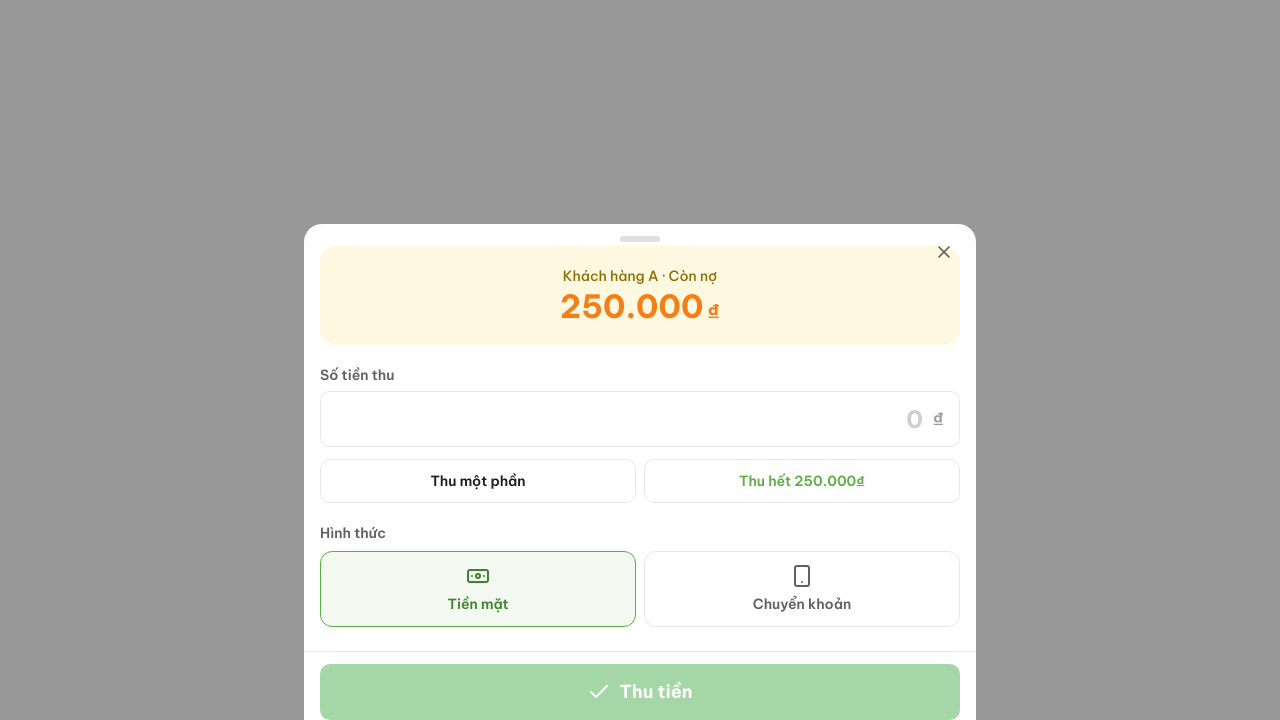
Scenario: CollectPaymentSheet transfer › renders configured bank details and VietQR URL for customer receivable
What coordinates should you click on to do the following:
click the button "Thu hết 250.000₫"
I would click on:
 (802, 481)
Its box is [644, 459, 960, 503].
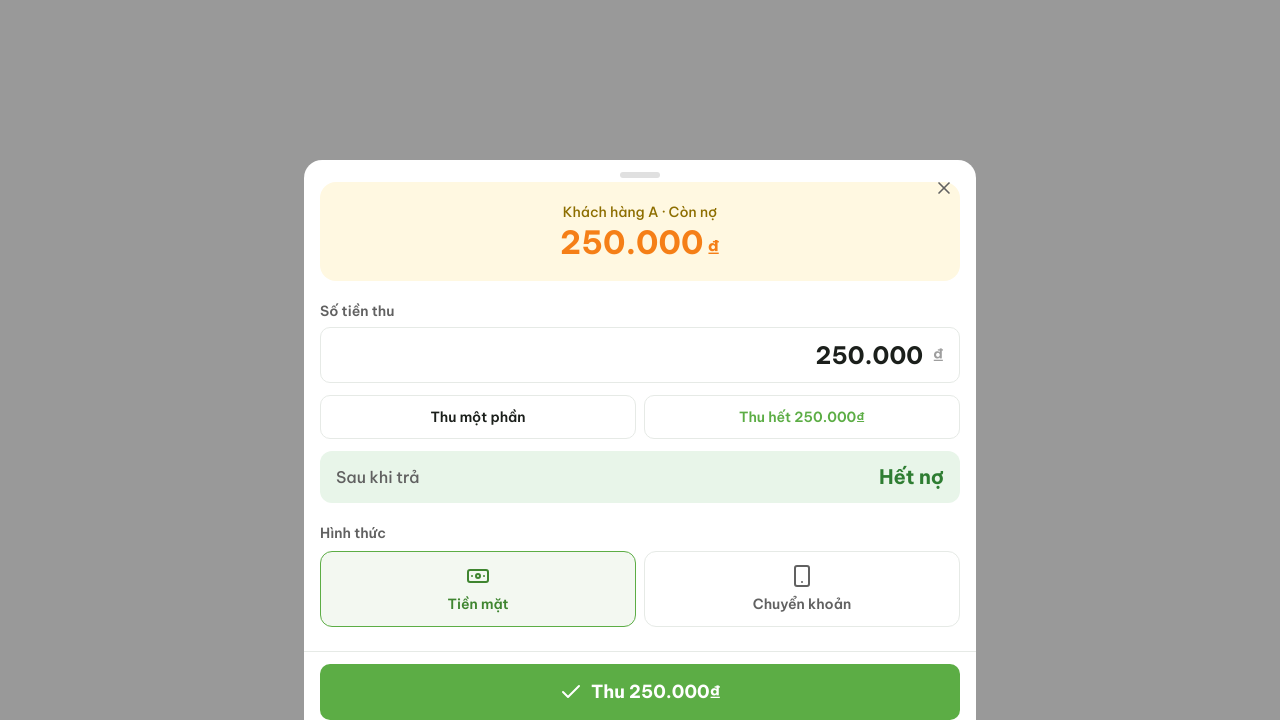
What coordinates should you click on to do the following:
click the button "Chuyển khoản"
I would click on:
 (802, 589)
Its box is [644, 551, 960, 627].
(page scrolled)
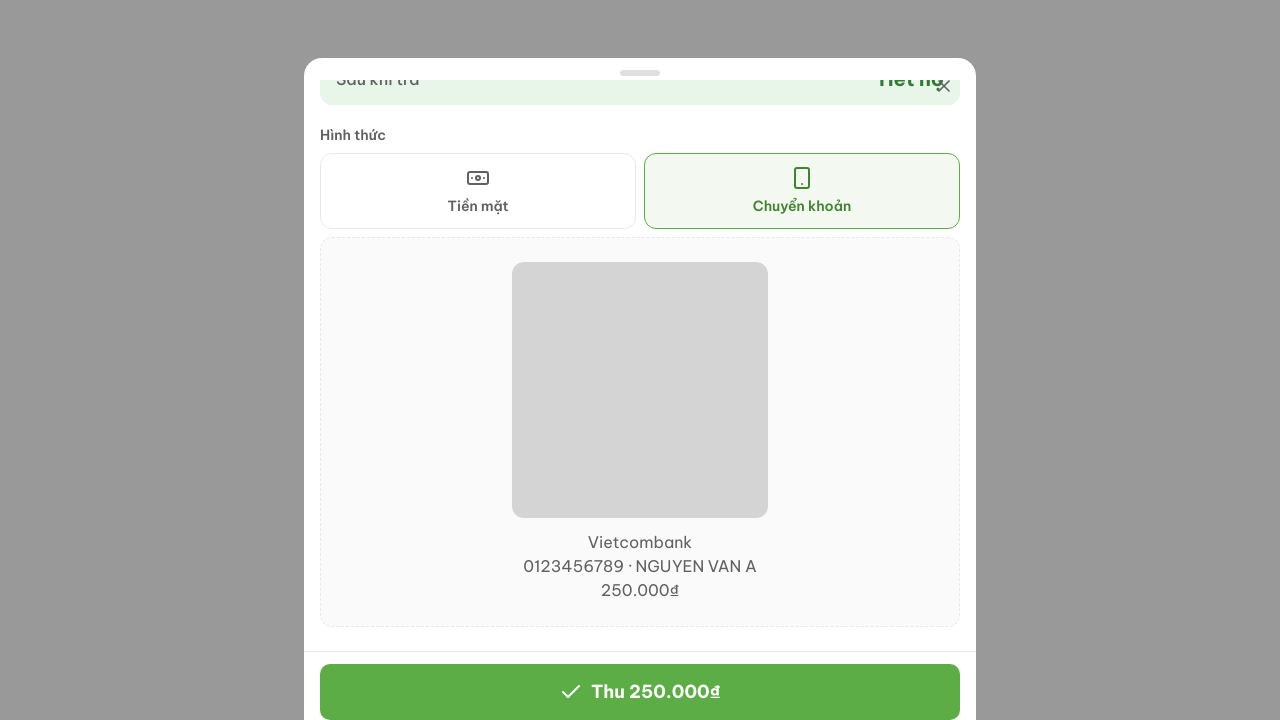
Expected: the text "Vietcombank0123456789 · NGUYEN VAN A250.000₫" is shown, [523, 530, 757, 602]
